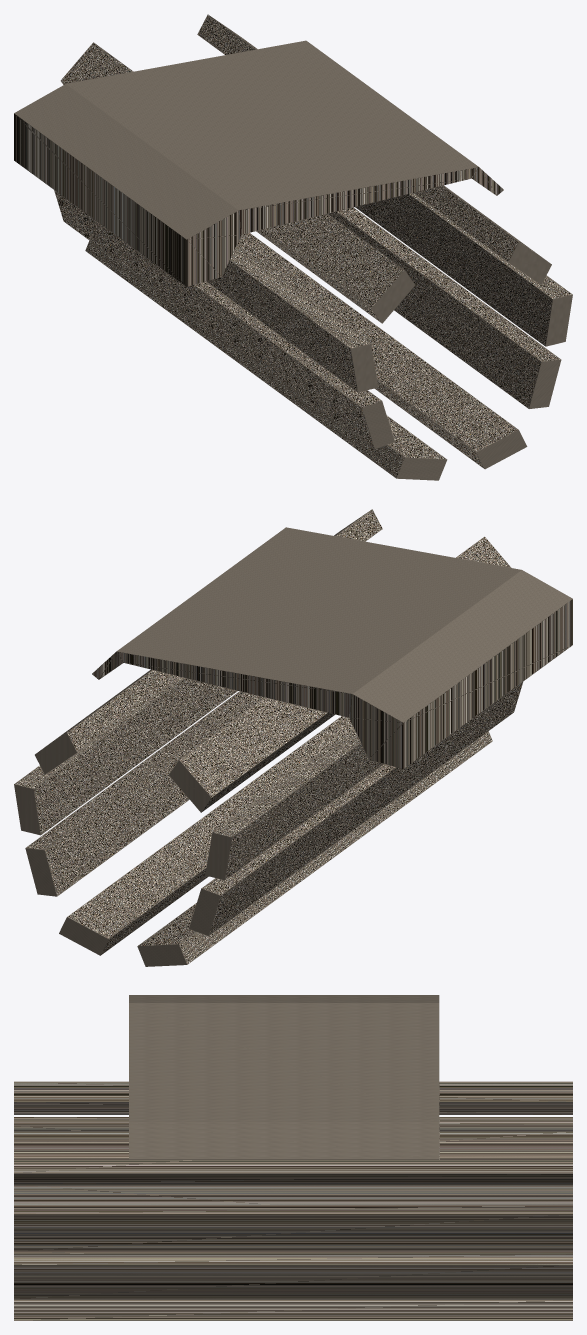
File: MissilePod_Left.fbx
The picture shows the model from 3 angles, top to bottom: view 1: azimuth 30°, elevation 25°; view 2: azimuth 150°, elevation 25°; view 3: azimuth 270°, elevation 25°; orthographic projection. The views are drawn at different scales.
Visible parts, largest first — view 1: MissilePod_Left; view 2: MissilePod_Left; view 3: MissilePod_Left.
Boxes of the visible parts, x1=… form: MissilePod_Left: x1=14, y1=14, x2=572, y2=480; MissilePod_Left: x1=14, y1=509, x2=572, y2=966; MissilePod_Left: x1=14, y1=995, x2=572, y2=1320.
Bounding box in the file's own units: 31.17 × 23.73 × 52.15.
